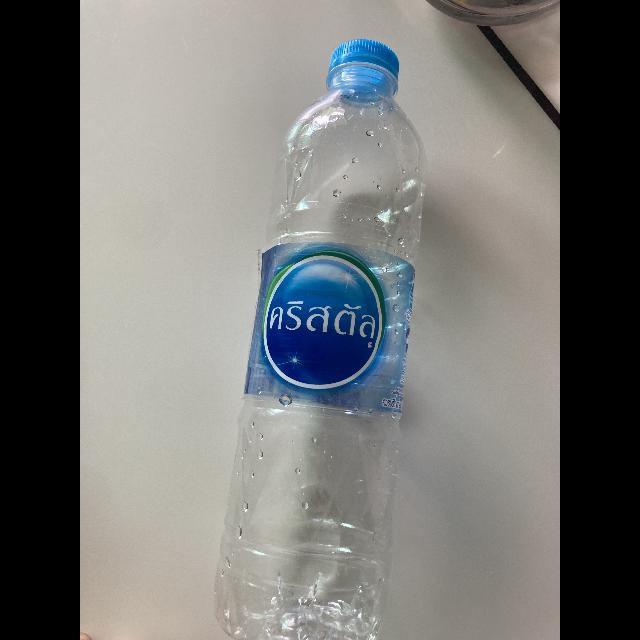plastic_bottle: (213, 32, 435, 640)
plastic_bottle_cap: (323, 36, 405, 98)
